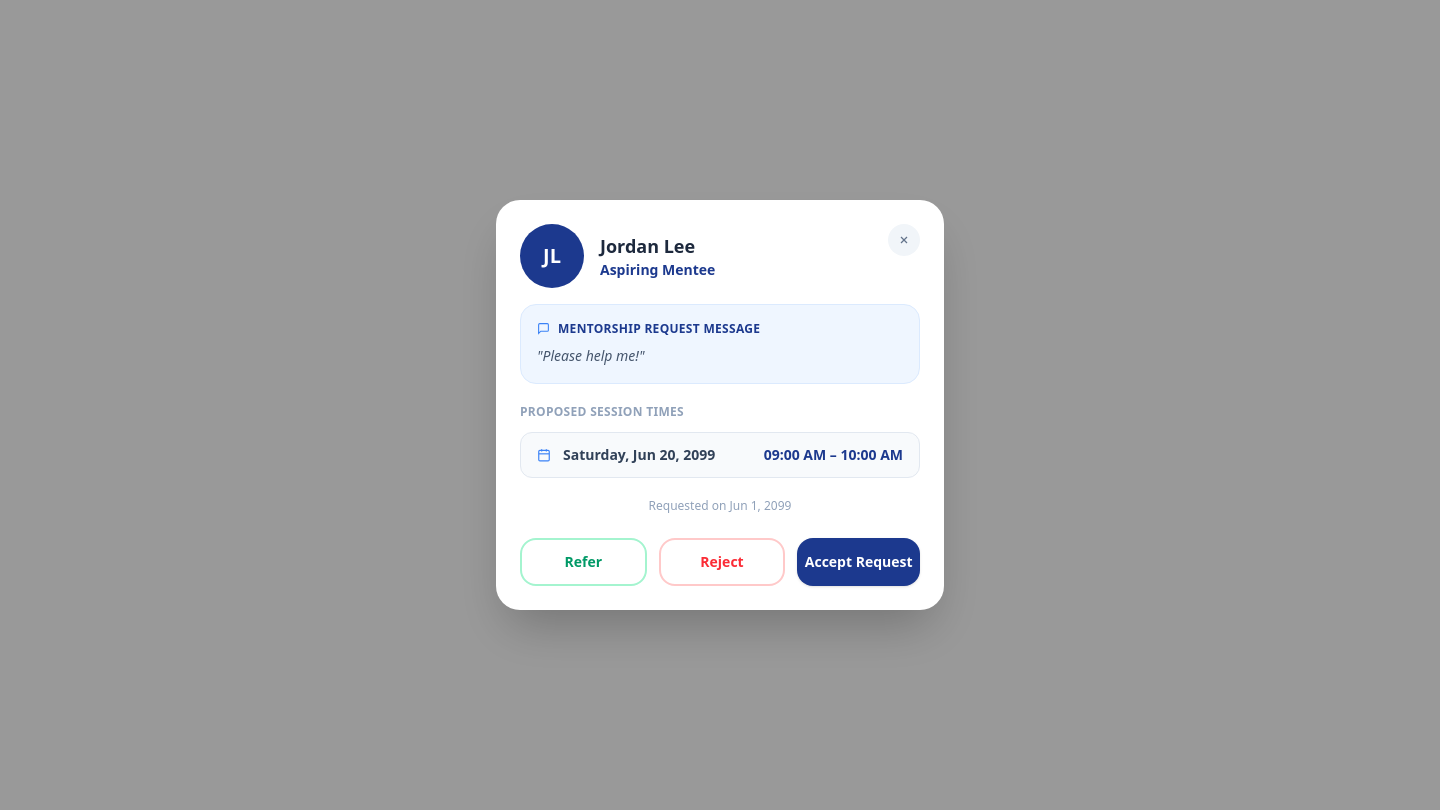
Test: MenteeProfileModal Component Suite › should disable action buttons while a transition is in progress
Click the button "Accept Request" at (859, 562), box [797,538,920,586]
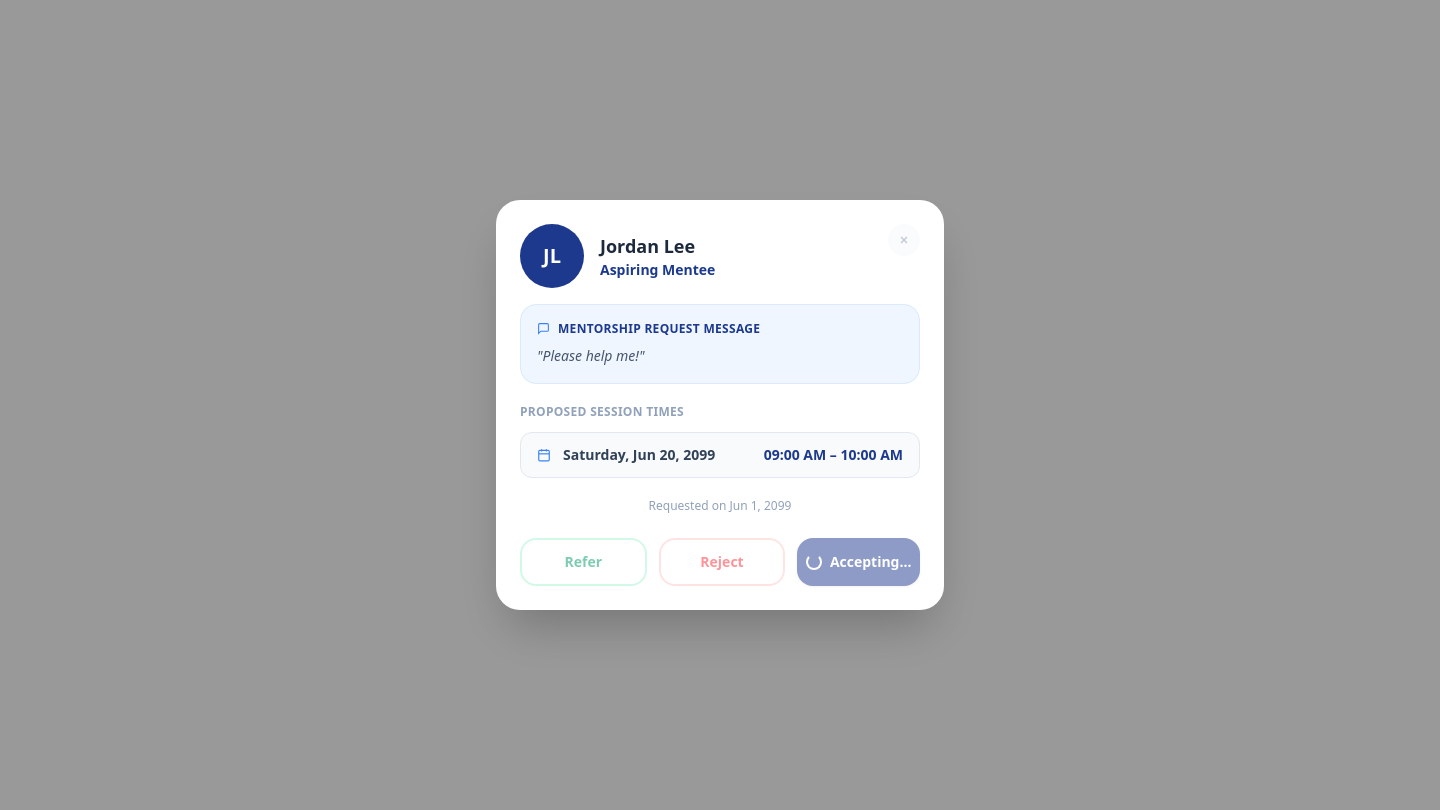
Check: the button "Reject" is disabled, box [659,538,785,586]
